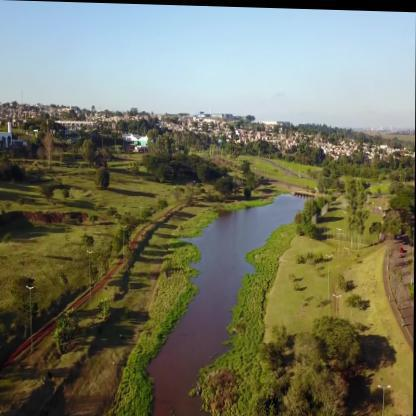agua: (188, 218, 233, 352), (154, 322, 204, 409), (256, 188, 295, 236), (232, 204, 256, 278)
